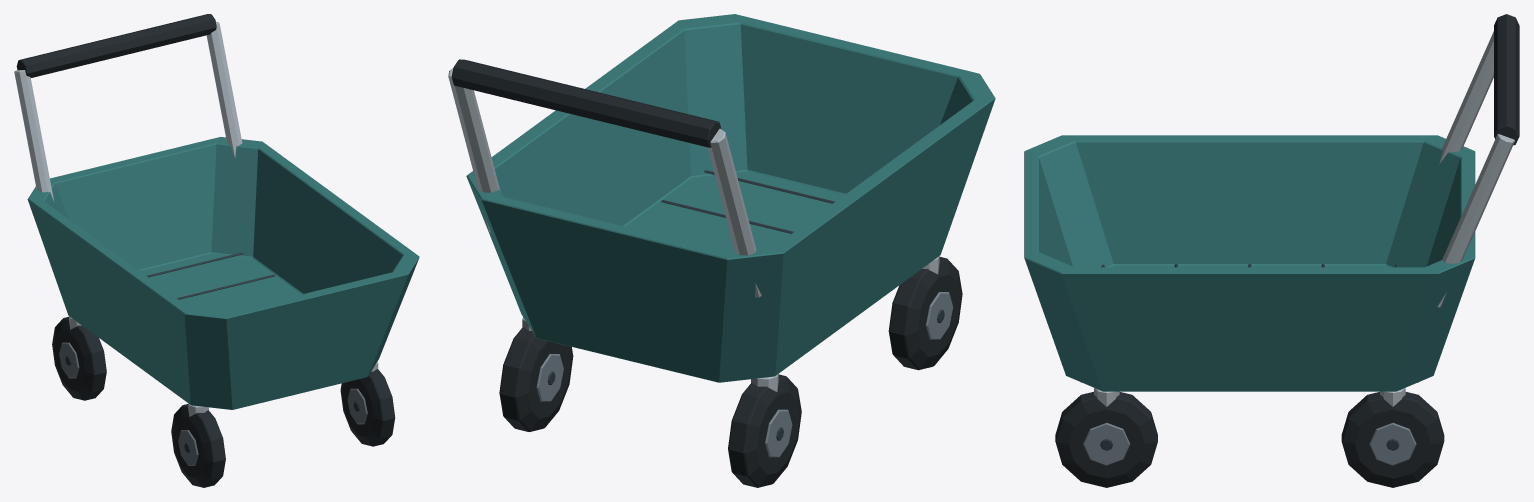
Rendered from b20_marina_gear_handcart.glb.
3 renders of one model, left to right at view 1: azimuth 30°, elevation 25°; view 2: azimuth 150°, elevation 25°; view 3: azimuth 270°, elevation 25°, orthographic. The views are drawn at different scales.
Parts seen in each view (by area): view 1: b20_marina_gear_handcart; view 2: b20_marina_gear_handcart; view 3: b20_marina_gear_handcart.
Part boxes in pixels (bbox=[...]): b20_marina_gear_handcart: bbox=[14, 14, 419, 487]; b20_marina_gear_handcart: bbox=[448, 14, 995, 487]; b20_marina_gear_handcart: bbox=[1024, 14, 1519, 487].
Bounding box in the file's own units: 0.8887 × 1.1 × 1.35.
